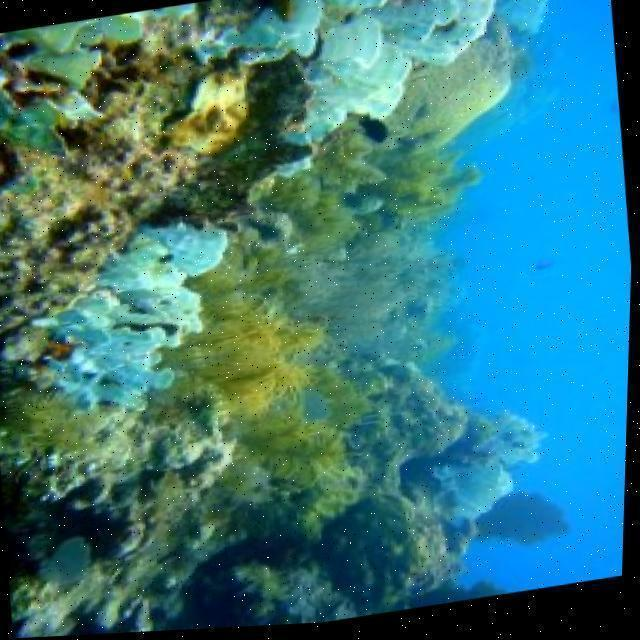Bleached Coral: (36, 209, 243, 430), (218, 0, 504, 147)
